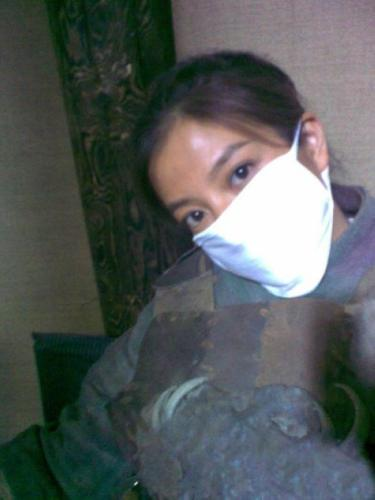face_mask: (155, 109, 303, 307)
